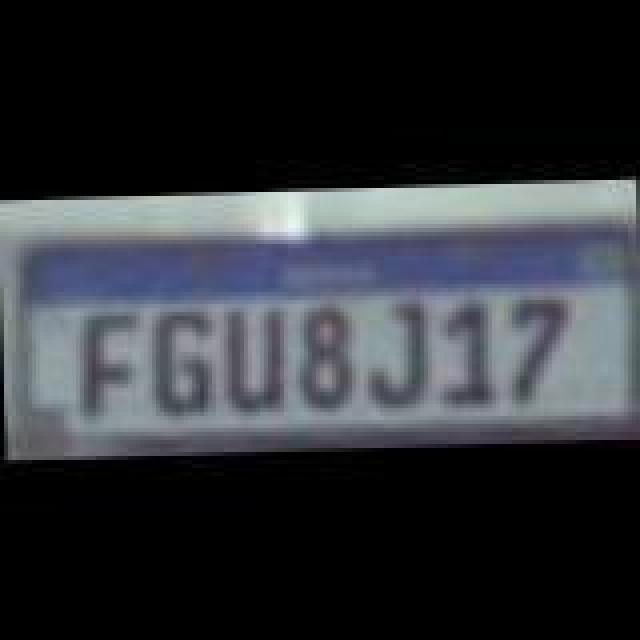1: (432, 286, 504, 402)
7: (500, 286, 572, 402)
8: (294, 296, 354, 416)
F: (76, 310, 140, 418)
G: (150, 300, 218, 420)
J: (366, 292, 434, 412)
U: (214, 294, 282, 410)
